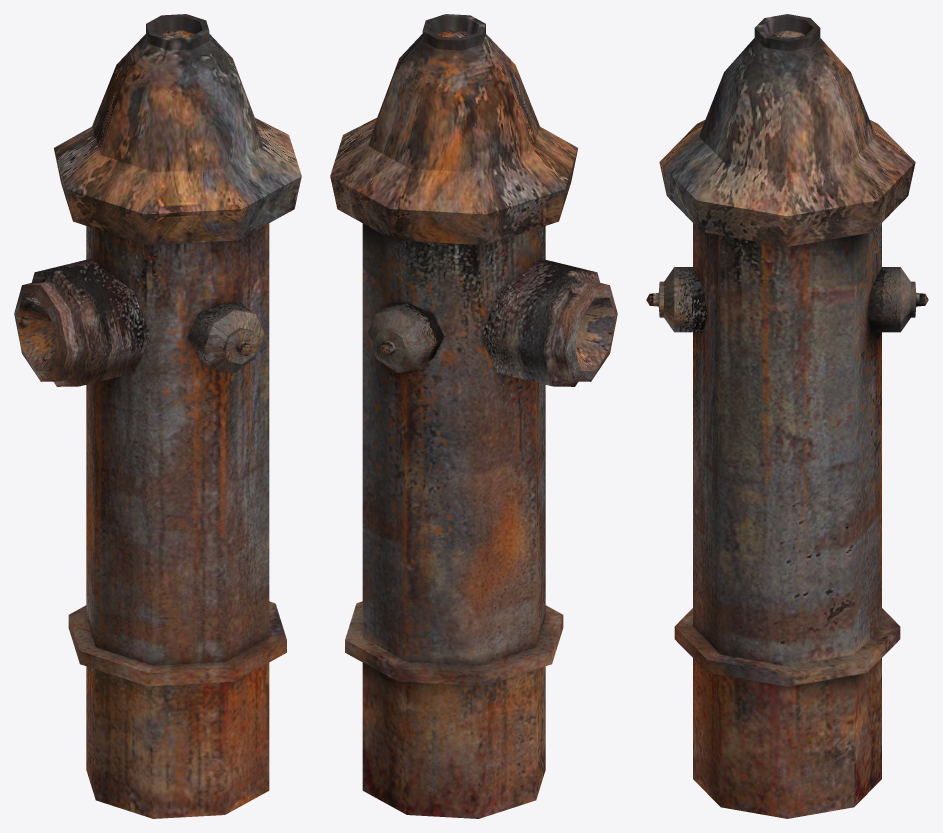
File: Model_FireHydrant_02.fbx
3 views of the same model, side by side, from view 1: azimuth 30°, elevation 25°; view 2: azimuth 150°, elevation 25°; view 3: azimuth 270°, elevation 25° (orthographic).
Visible parts, largest first — view 1: FireTap; view 2: FireTap; view 3: FireTap.
Part boxes in pixels (x1,y1,x2,y2): FireTap: (14, 14, 301, 818); FireTap: (330, 14, 617, 818); FireTap: (646, 14, 928, 818).
Bounding box in the file's own units: 35.46 × 101 × 34.49.
